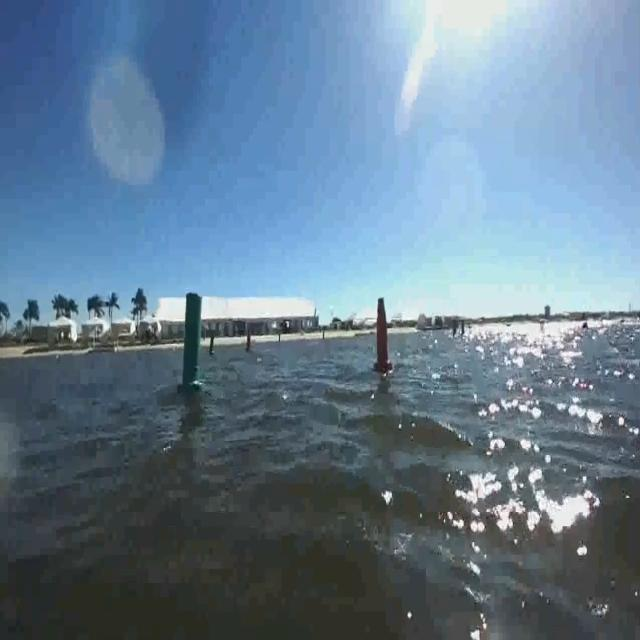green-column-buoy: (176, 290, 204, 395), (208, 329, 217, 356)
red-column-buoy: (373, 294, 393, 374), (243, 329, 252, 354)
